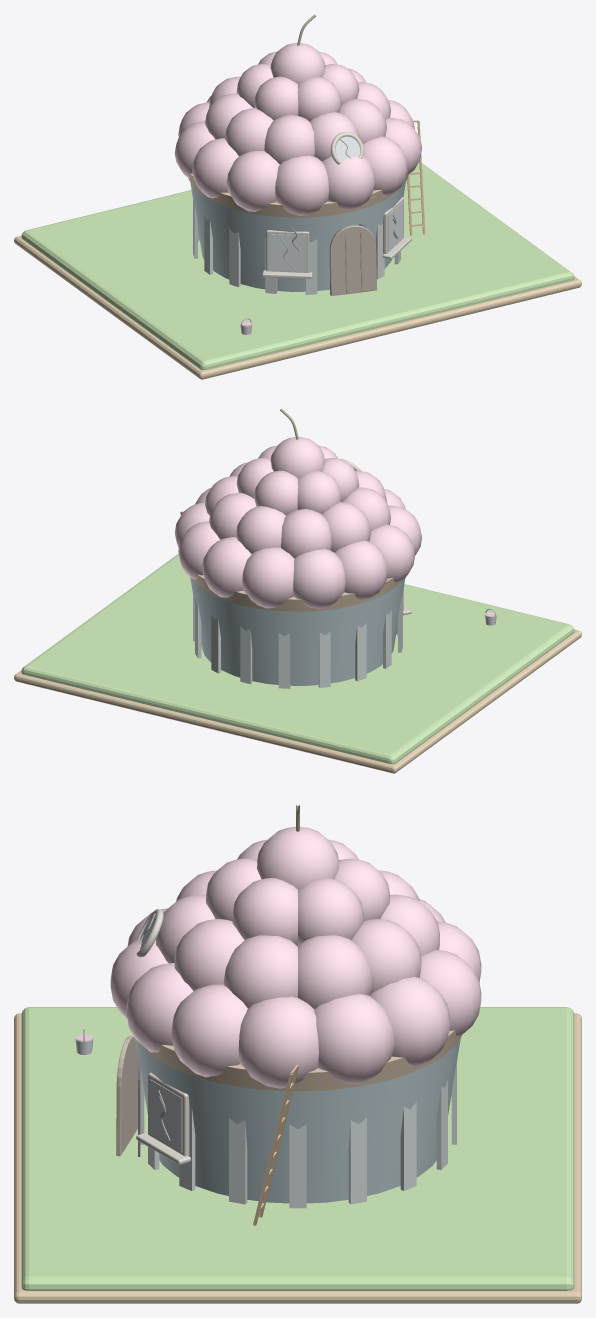
The model's file is building_sweets_L03.glb.
3 views of the same model, one above another, from view 1: azimuth 30°, elevation 25°; view 2: azimuth 150°, elevation 25°; view 3: azimuth 270°, elevation 25° (orthographic). The views are drawn at different scales.
Visible parts, largest first — view 1: sweets_L3, Body; view 2: sweets_L3, Body; view 3: sweets_L3, Body.
Part boxes in pixels (x1,y1,x2,y2): sweets_L3: (14,120,581,379); Body: (174,14,421,295); sweets_L3: (14,511,581,773); Body: (174,408,421,688); sweets_L3: (14,1007,581,1303); Body: (110,805,481,1208).
Bounding box in the file's own units: 26.61 × 16.43 × 22.6.
